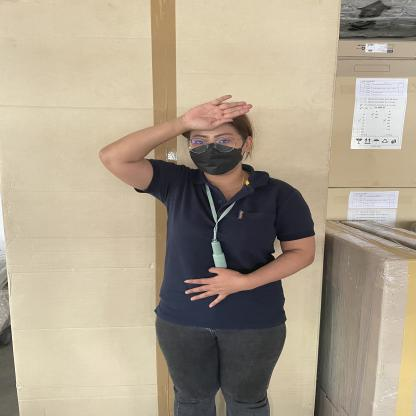Sick: (63, 70, 266, 161)
